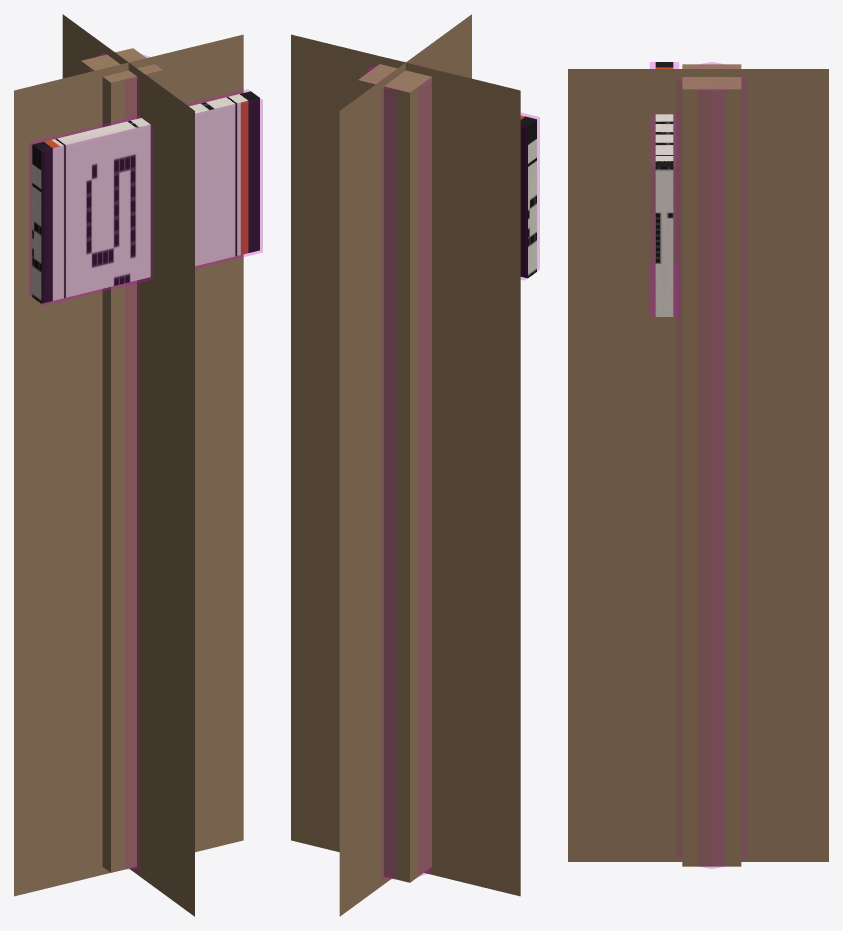
The model's file is milemarker_059.dae.
The picture shows the model from 3 angles, left to right: view 1: azimuth 30°, elevation 25°; view 2: azimuth 150°, elevation 25°; view 3: azimuth 270°, elevation 25°; orthographic projection.
Parts seen in each view (by area): view 1: milemarker_059_a50, milemarker_059_a800, Colmesh_sign-1, milemarker_059_a200, Colmesh_post-1; view 2: milemarker_059_a50, milemarker_059_a800, Colmesh_post-1, milemarker_059_a200, Colmesh_sign-1; view 3: milemarker_059_a50, milemarker_059_a800, Colmesh_post-1, Colmesh_sign-1.
Boxes of the visible parts, <box> form: milemarker_059_a50: <box>14,14,243,916</box>; milemarker_059_a800: <box>32,48,259,872</box>; Colmesh_sign-1: <box>29,89,262,305</box>; milemarker_059_a200: <box>102,56,159,866</box>; Colmesh_post-1: <box>89,53,148,869</box>; milemarker_059_a50: <box>291,14,520,916</box>; milemarker_059_a800: <box>358,58,536,882</box>; Colmesh_post-1: <box>366,61,431,878</box>; milemarker_059_a200: <box>379,66,431,879</box>; Colmesh_sign-1: <box>521,113,539,280</box>; milemarker_059_a50: <box>568,69,828,861</box>; milemarker_059_a800: <box>655,62,741,866</box>; Colmesh_post-1: <box>677,62,746,868</box>; Colmesh_sign-1: <box>650,62,678,316</box>.
Size of the model in its own units: 0.441 by 0.441 by 1.48.
Materials: 3 (1 with a texture image).
